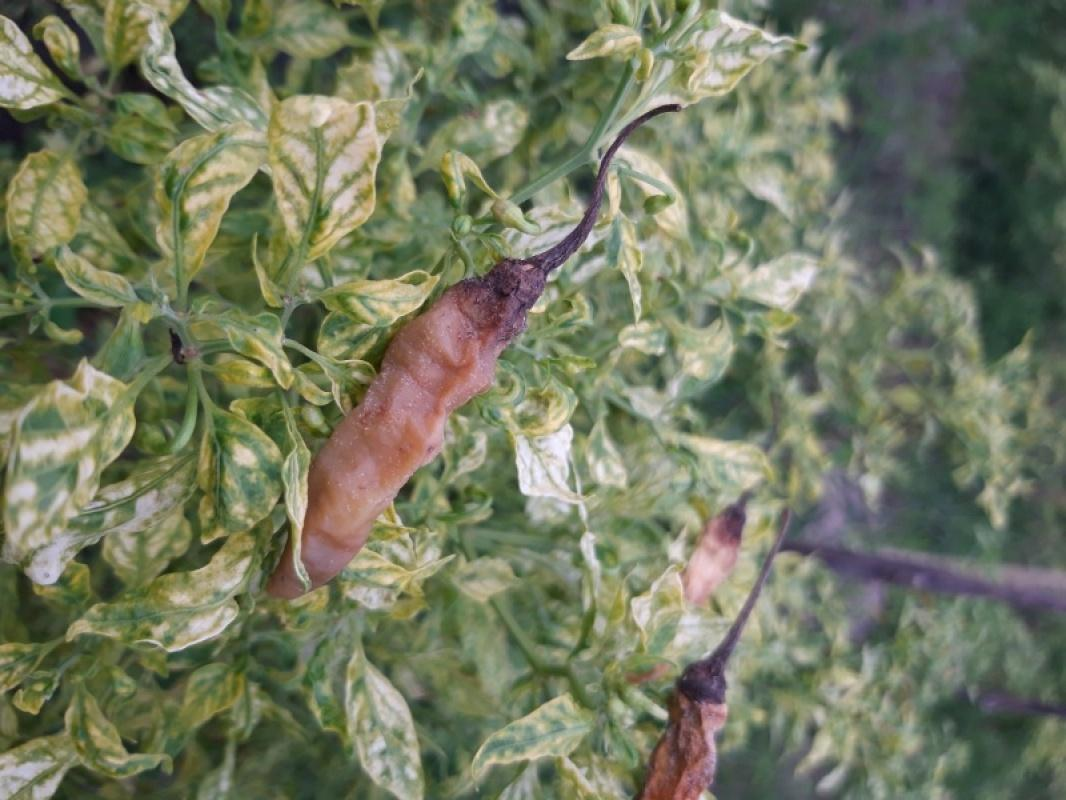antraknosa: (628, 663, 733, 800), (679, 505, 749, 609)
lalat_buah: (266, 250, 551, 600)
